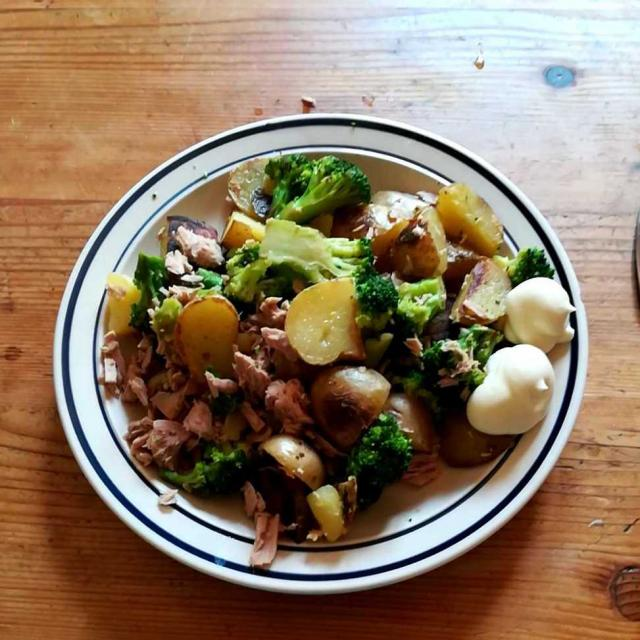mayonnaise: (441, 275, 567, 439)
potatoes-steamed: (92, 166, 524, 552)
